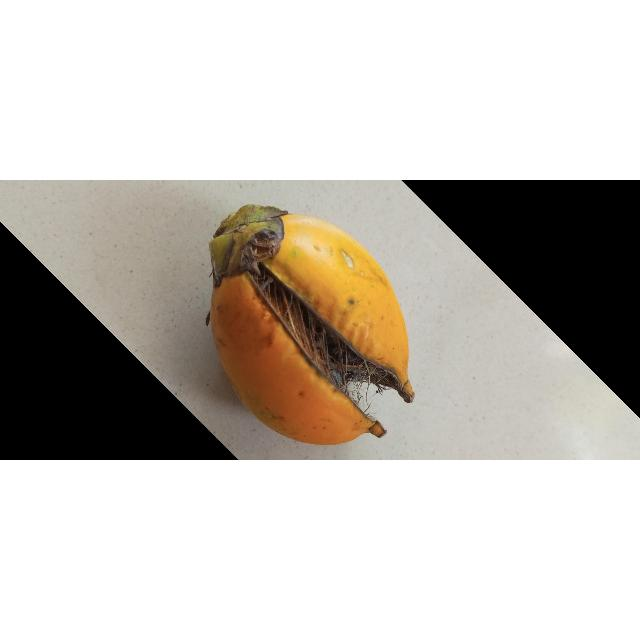damaged: (206, 204, 415, 446)
